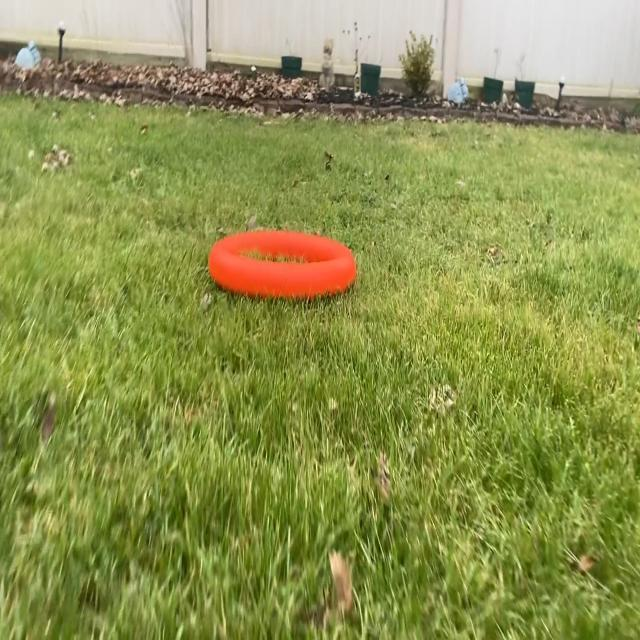note: (207, 227, 360, 300)
